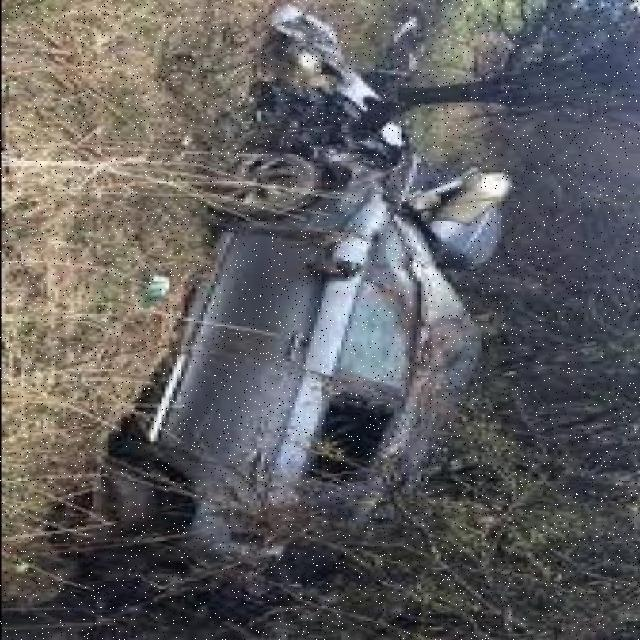damage: (223, 8, 504, 276)
